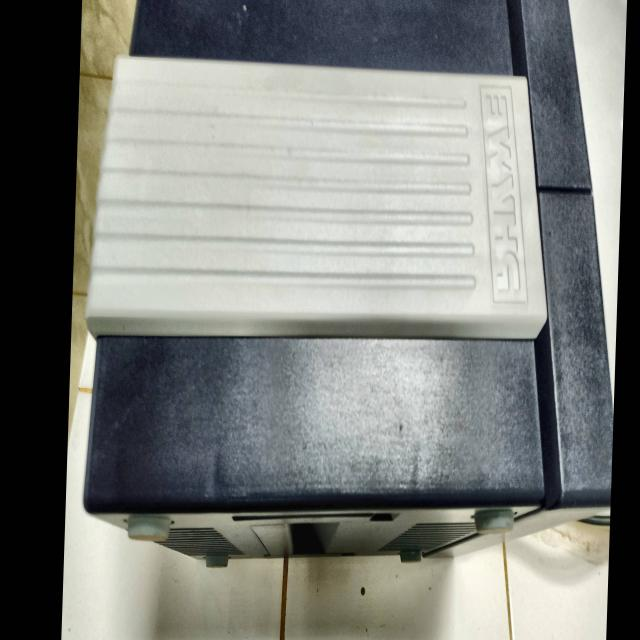Teslameter PS: (69, 0, 620, 622)
